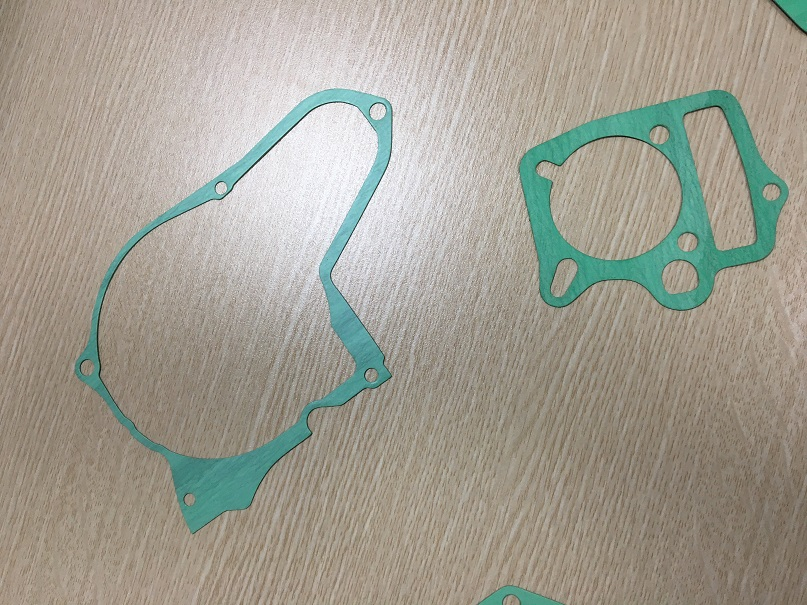type1: (59, 75, 415, 544)
type4: (501, 83, 796, 314)
